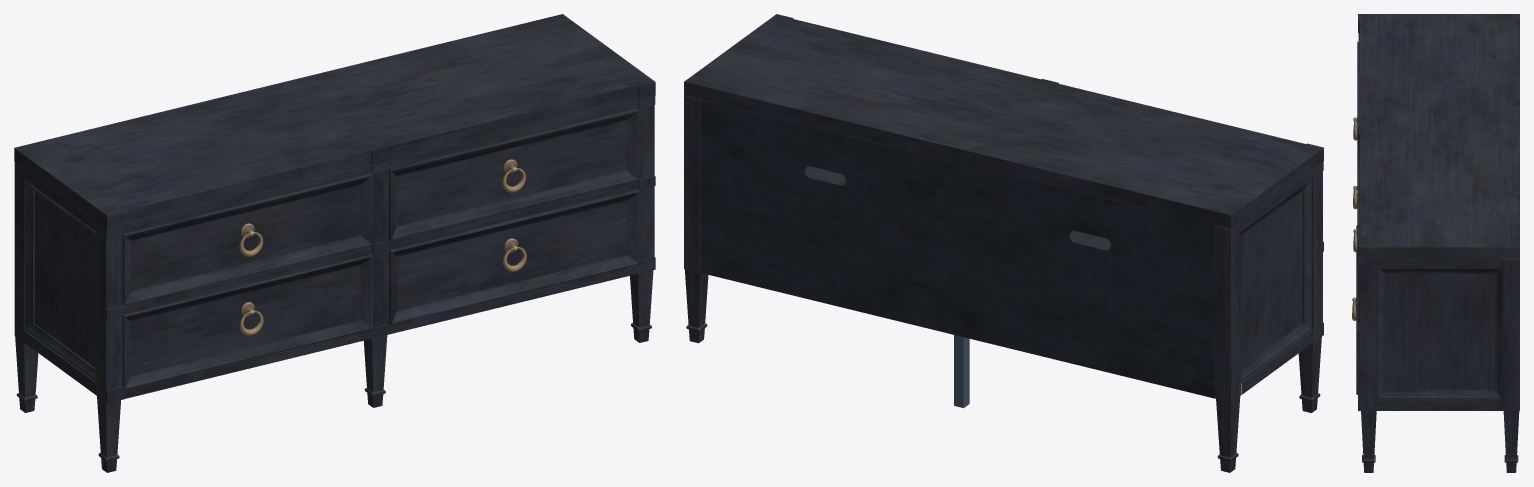
Rendered from abo-B07B7J5BC2.glb.
The picture shows the model from 3 angles, left to right: view 1: azimuth 30°, elevation 25°; view 2: azimuth 150°, elevation 25°; view 3: azimuth 270°, elevation 25°; orthographic projection. The views are drawn at different scales.
Bounding box in the file's own units: 1.57 × 0.719 × 0.479.
Materials: 1 (1 with a texture image).
